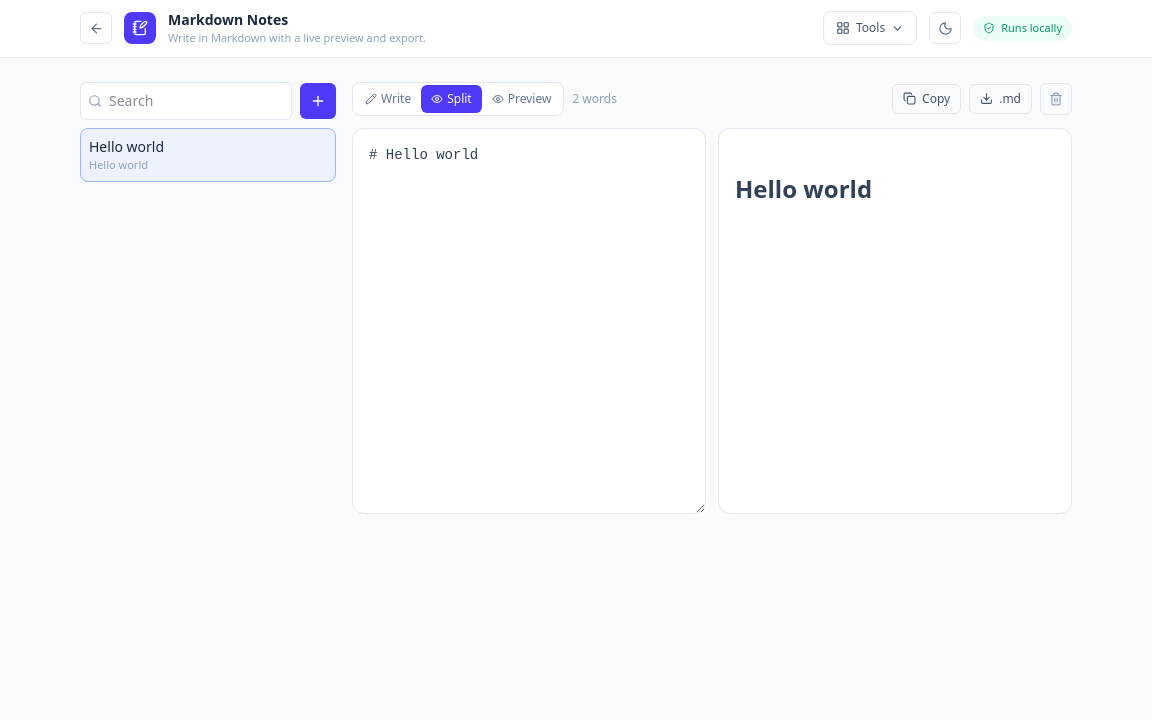
Test: NotesApp › filters notes by search
Type "zzz" into the field named "Search notes". click: (186, 100)
box: 80,82 -> 292,120
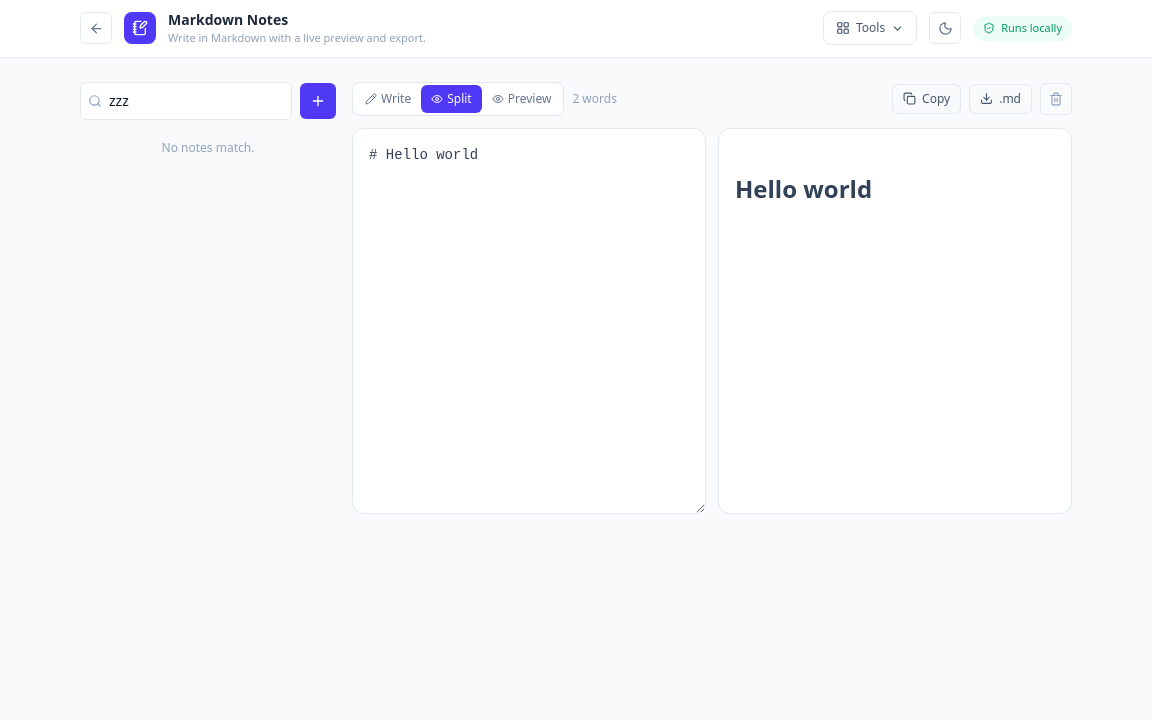
Result: the text "No notes match." is shown at 162,138 -> 254,156
